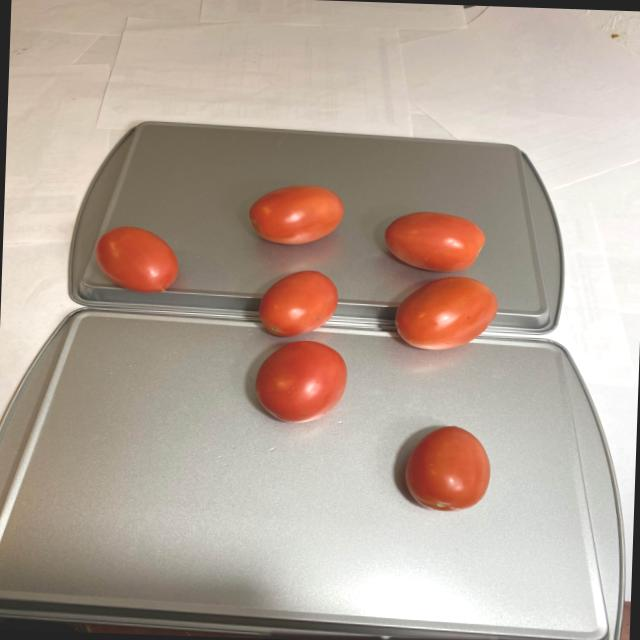tomato: (82, 176, 502, 516)
